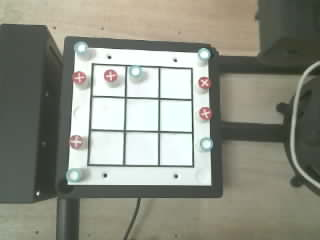blue circle: (66, 169, 80, 182), (200, 137, 213, 151), (74, 41, 87, 54), (198, 48, 210, 60), (129, 66, 141, 77)
board: (67, 42, 212, 185)
cells: (90, 131, 123, 164), (91, 97, 123, 129), (126, 132, 157, 165), (160, 134, 192, 165), (126, 99, 158, 130), (93, 65, 125, 96), (160, 100, 191, 131), (160, 68, 191, 98), (127, 67, 158, 97)
grid: (87, 64, 193, 167)
red cross: (69, 135, 83, 148), (72, 71, 86, 84), (104, 69, 117, 82), (199, 107, 212, 119), (198, 77, 211, 88)
